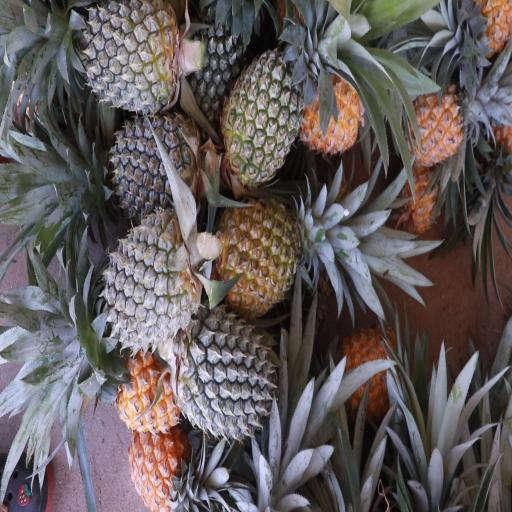------------------------------: (222, 48, 309, 180), (216, 196, 308, 309)
Pineapple - v8 v1: (109, 348, 183, 440), (299, 78, 364, 163), (340, 339, 395, 438), (407, 90, 468, 175), (124, 433, 187, 508)
